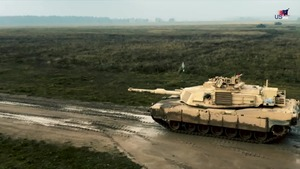abrams: (127, 75, 297, 140)
